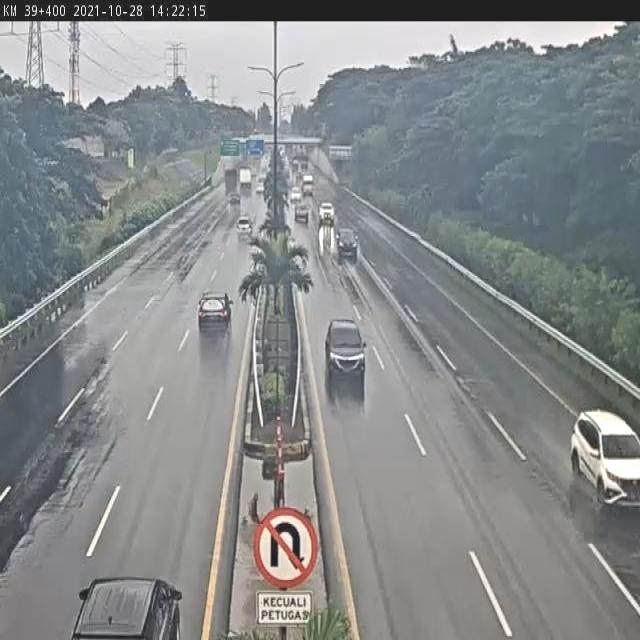Car: (72, 577, 183, 640), (569, 410, 640, 508), (326, 320, 368, 384), (197, 290, 235, 330), (336, 229, 360, 259), (236, 216, 254, 238), (319, 201, 335, 224), (293, 203, 310, 222), (290, 186, 302, 203), (229, 192, 240, 206)
Truck: (222, 168, 238, 188), (240, 167, 252, 191), (302, 176, 314, 197)
